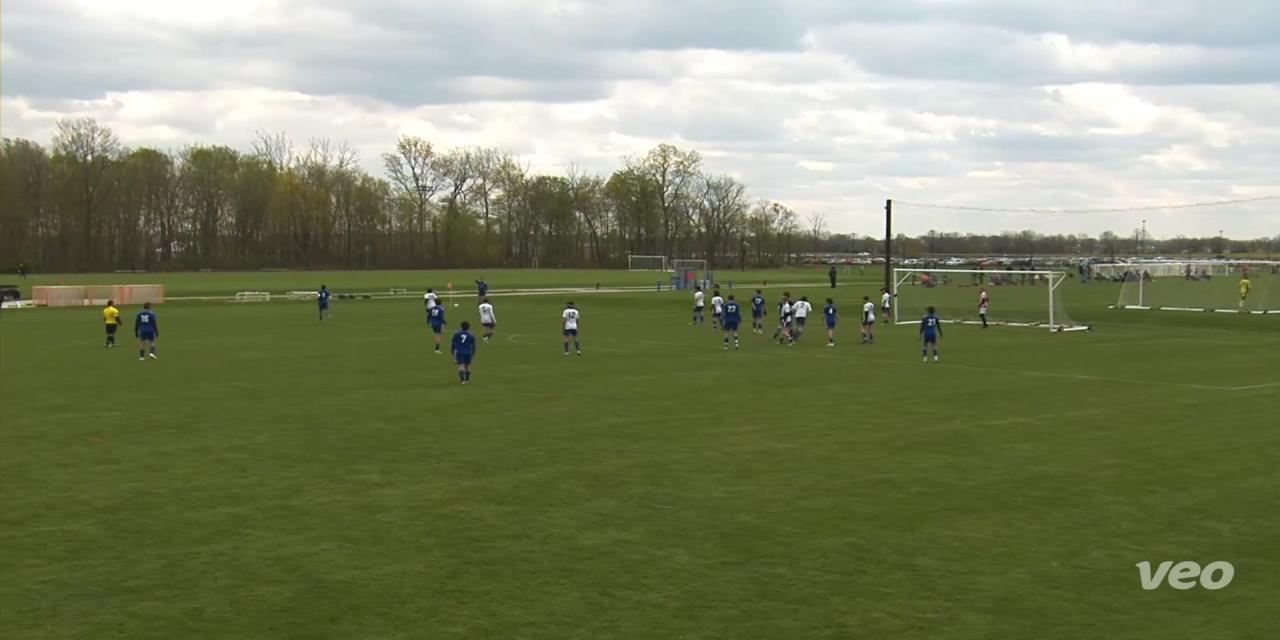goal: (877, 261, 1104, 334)
sports ball: (447, 292, 468, 313)
